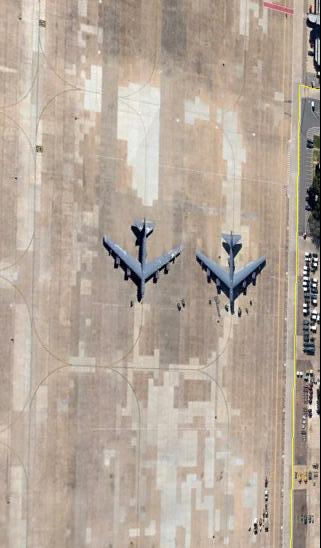B-52: (100, 219, 184, 301), (193, 230, 271, 305)
